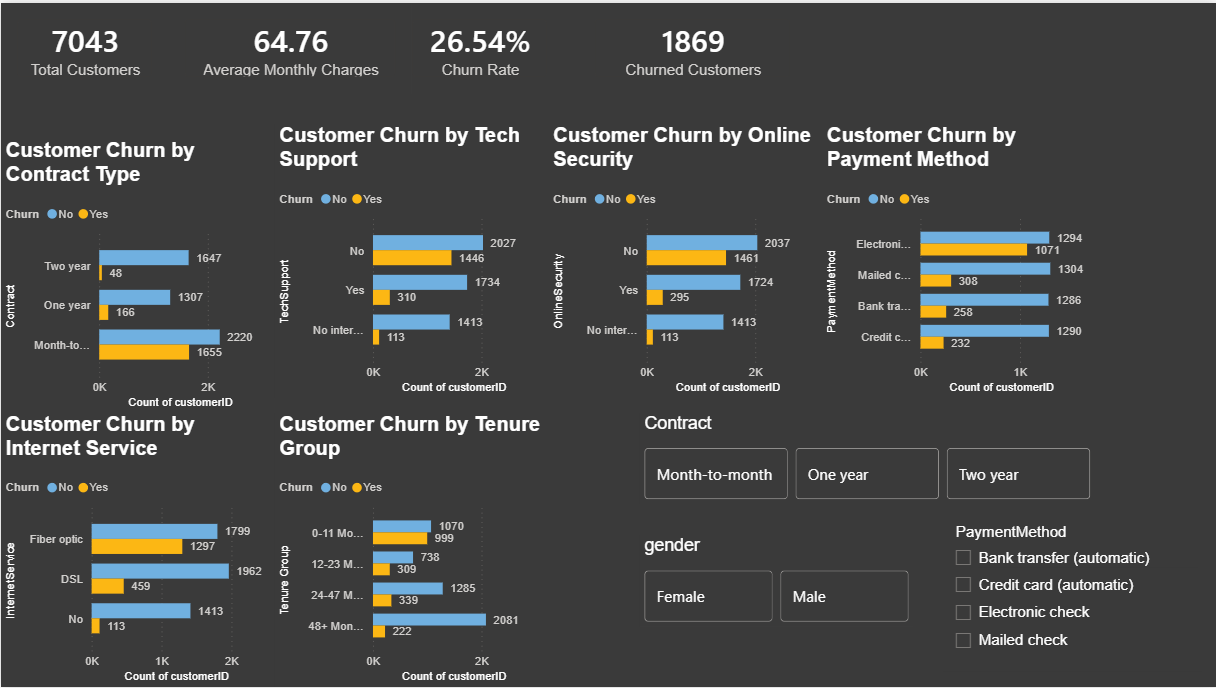

This screenshot's page, from the dashboard's own definition file:
{"tool":"powerbi","page":{"name":"Page 1","canvas":[1280,720],"ordinal":0},"visuals":[{"type":"clusteredBarChart","title":"Customer Churn by Contract Type","fields":{"Category":["Telco-Customer-Churn.Contract"],"Series":["Telco-Customer-Churn.Churn"],"Y":["CountNonNull(Telco-Customer-Churn.customerID)"]},"box":[0,144,288,288],"z":0},{"type":"cardVisual","fields":{"Data":["Telco-Customer-Churn.Total Customers"]},"box":[0,0,176,96],"z":1000},{"type":"cardVisual","fields":{"Data":["Telco-Customer-Churn.Churn Rate"]},"box":[416,0,176,96],"z":2000},{"type":"cardVisual","fields":{"Data":["Telco-Customer-Churn.Churned Customers"]},"box":[608,0,240,96],"z":3000},{"type":"cardVisual","fields":{"Data":["Telco-Customer-Churn.Average Monthly Charges"]},"box":[176,0,256,96],"z":4000},{"type":"clusteredBarChart","title":"Customer Churn by Internet Service","fields":{"Category":["Telco-Customer-Churn.InternetService"],"Y":["CountNonNull(Telco-Customer-Churn.customerID)"],"Series":["Telco-Customer-Churn.Churn"]},"box":[0,432,288,288],"z":5000},{"type":"clusteredBarChart","title":"Customer Churn by Payment Method","fields":{"Category":["Telco-Customer-Churn.PaymentMethod"],"Series":["Telco-Customer-Churn.Churn"],"Y":["CountNonNull(Telco-Customer-Churn.customerID)"]},"box":[864,128,288,288],"z":6000},{"type":"clusteredBarChart","title":"Customer Churn by Tenure Group","fields":{"Category":["Telco-Customer-Churn.Tenure Group"],"Y":["CountNonNull(Telco-Customer-Churn.customerID)"],"Series":["Telco-Customer-Churn.Churn"]},"box":[288,432,288,288],"z":7000},{"type":"clusteredBarChart","title":"Customer Churn by Online Security","fields":{"Category":["Telco-Customer-Churn.OnlineSecurity"],"Y":["CountNonNull(Telco-Customer-Churn.customerID)"],"Series":["Telco-Customer-Churn.Churn"]},"box":[576,128,288,288],"z":8000},{"type":"clusteredBarChart","title":"Customer Churn by Tech Support","fields":{"Category":["Telco-Customer-Churn.TechSupport"],"Y":["CountNonNull(Telco-Customer-Churn.customerID)"],"Series":["Telco-Customer-Churn.Churn"]},"box":[288,128,288,288],"z":9000},{"type":"advancedSlicerVisual","fields":{"Values":["Telco-Customer-Churn.gender"]},"box":[672,560,288,96],"z":10000},{"type":"advancedSlicerVisual","fields":{"Values":["Telco-Customer-Churn.Contract"]},"box":[672,432,480,96],"z":11000},{"type":"slicer","fields":{"Values":["Telco-Customer-Churn.PaymentMethod"]},"box":[992,544,272,160],"z":12000}]}

Visuals, with their boxes in screenshot pixels (x1, y1, x2, y2), scaled from the page's 1280x720 canvas onto the 1216x688 screenshot:
"Customer Churn by Contract Type" clusteredBarChart: locate(0, 138, 274, 413)
cardVisual - Telco-Customer-Churn.Total Customers: locate(0, 0, 167, 92)
cardVisual - Telco-Customer-Churn.Churn Rate: locate(395, 0, 562, 92)
cardVisual - Telco-Customer-Churn.Churned Customers: locate(578, 0, 806, 92)
cardVisual - Telco-Customer-Churn.Average Monthly Charges: locate(167, 0, 410, 92)
"Customer Churn by Internet Service" clusteredBarChart: locate(0, 413, 274, 687)
"Customer Churn by Payment Method" clusteredBarChart: locate(821, 122, 1094, 398)
"Customer Churn by Tenure Group" clusteredBarChart: locate(274, 413, 547, 687)
"Customer Churn by Online Security" clusteredBarChart: locate(547, 122, 821, 398)
"Customer Churn by Tech Support" clusteredBarChart: locate(274, 122, 547, 398)
advancedSlicerVisual - Telco-Customer-Churn.gender: locate(638, 535, 912, 627)
advancedSlicerVisual - Telco-Customer-Churn.Contract: locate(638, 413, 1094, 505)
slicer - Telco-Customer-Churn.PaymentMethod: locate(942, 520, 1201, 673)
